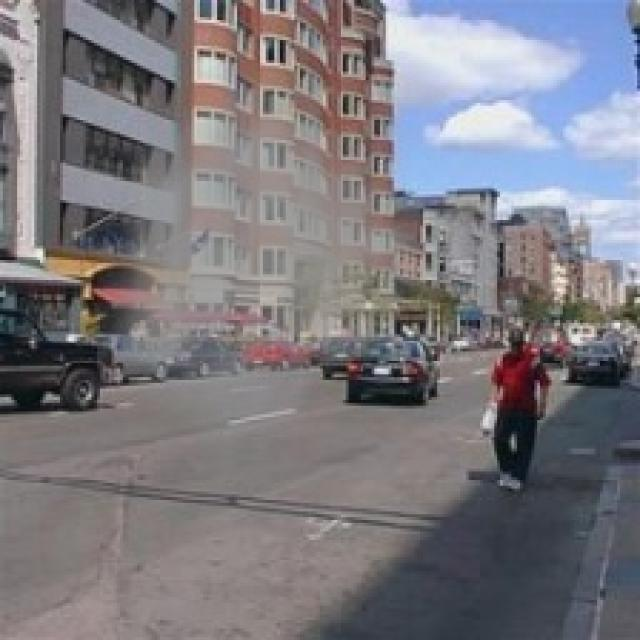smoke: (97, 49, 452, 468)
